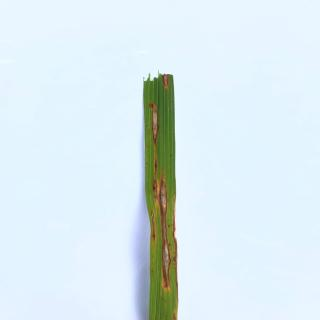Blast: (146, 226, 183, 290), (147, 170, 176, 213), (146, 102, 166, 148), (158, 74, 176, 96)
